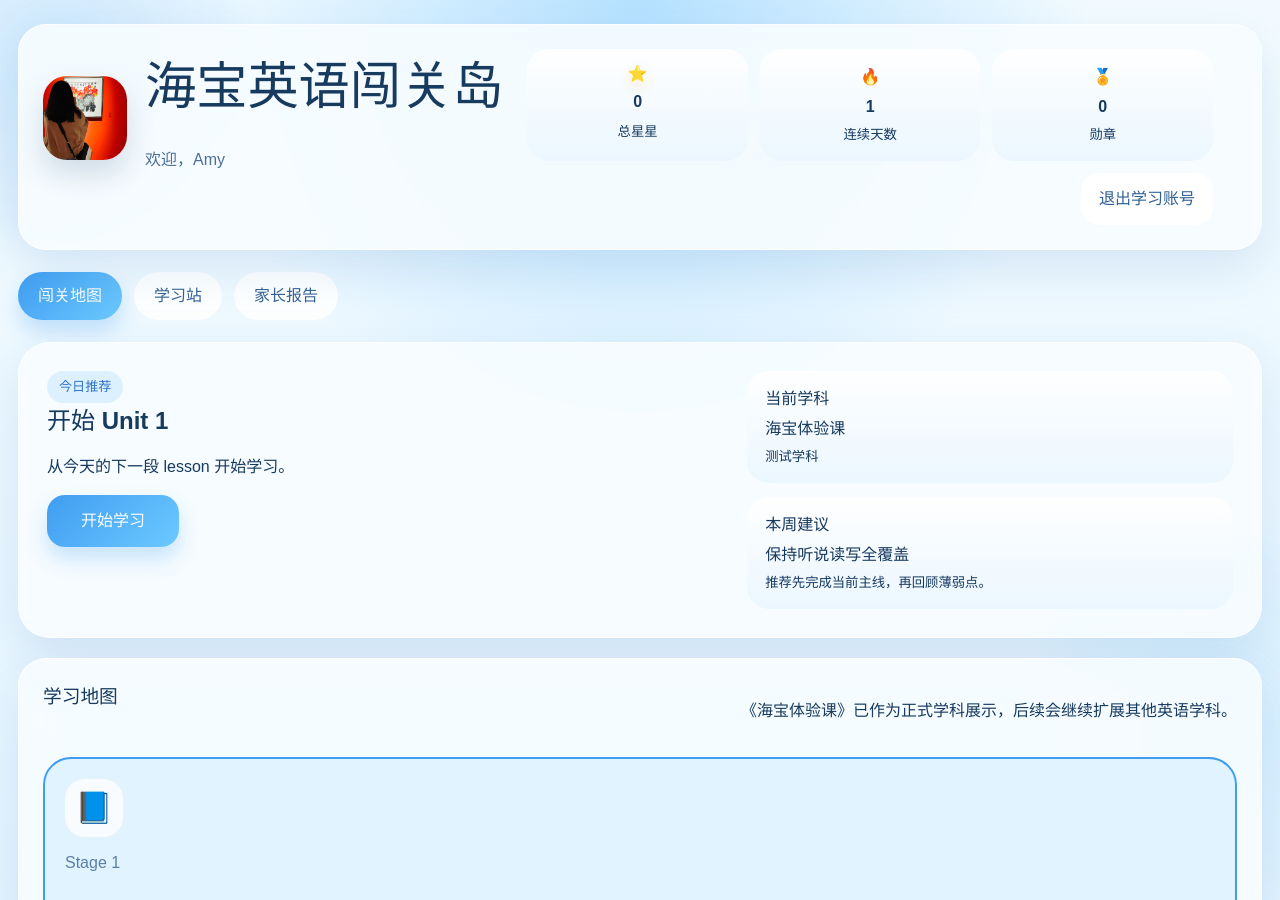
Scenario: Haibao app › strengthens username inputs with english-first mobile hints
Check: the text "海宝体验课" is shown, box [765,420,845,437]
Click the button "退出学习账号". click: (1147,199)
box: [1081,173,1213,225]
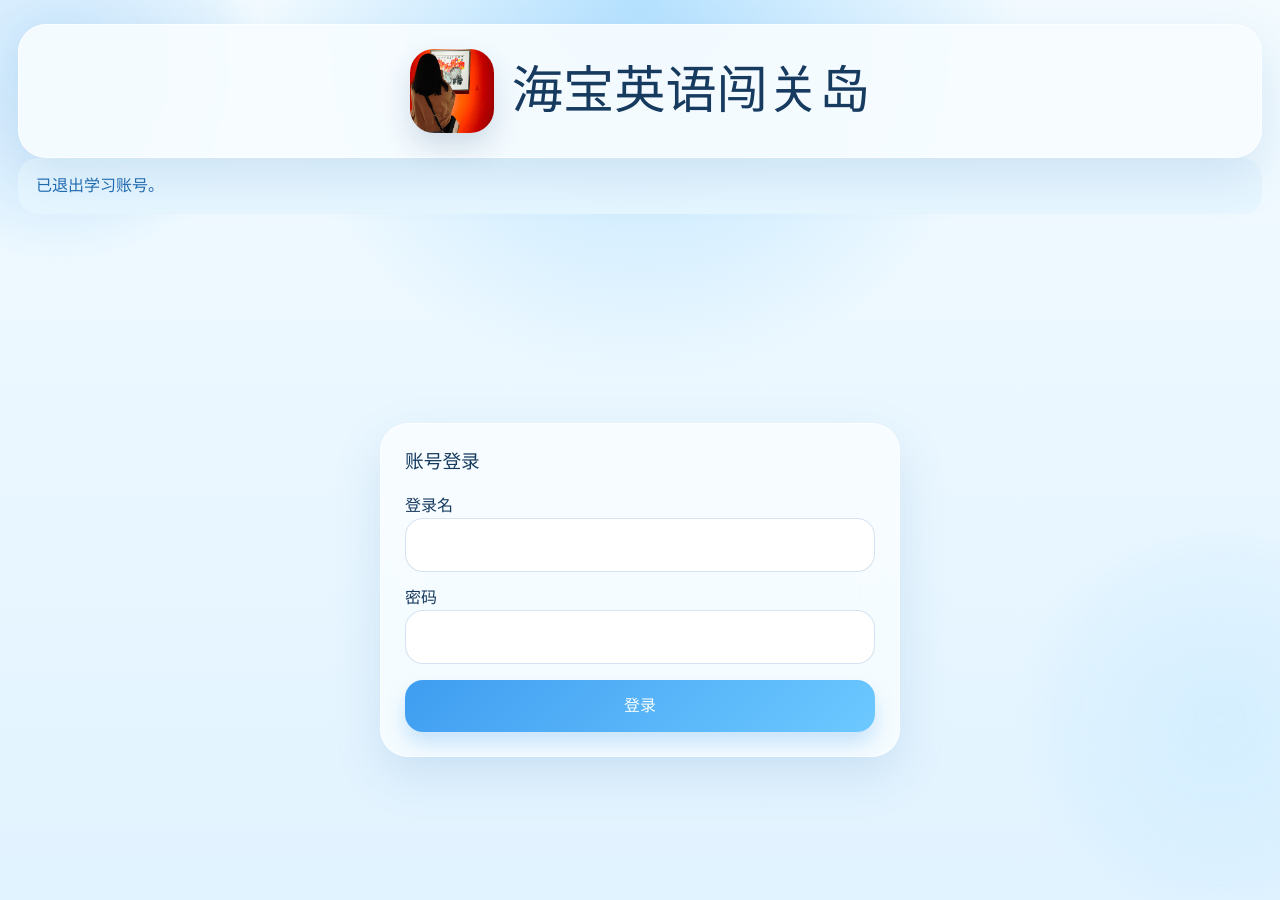
Check: the heading "账号登录" is shown, box [405,448,480,476]
